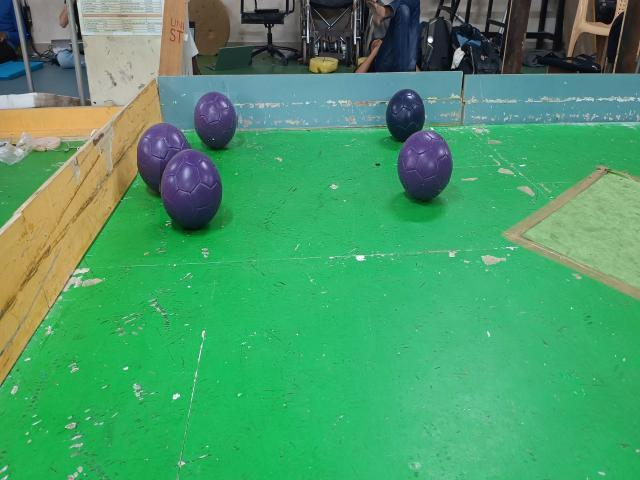jambhalya: (160, 150, 222, 230), (398, 131, 452, 201), (137, 123, 189, 192), (195, 92, 237, 148)
kaalyya: (386, 88, 425, 142)
